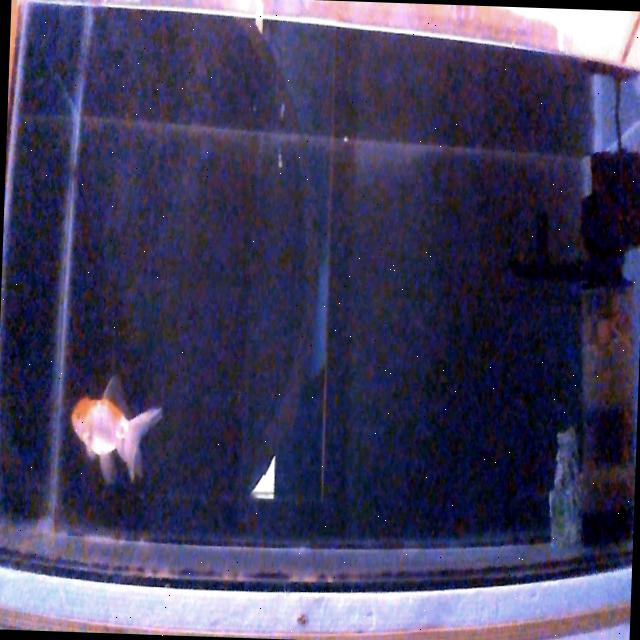fish: (67, 375, 164, 487)
